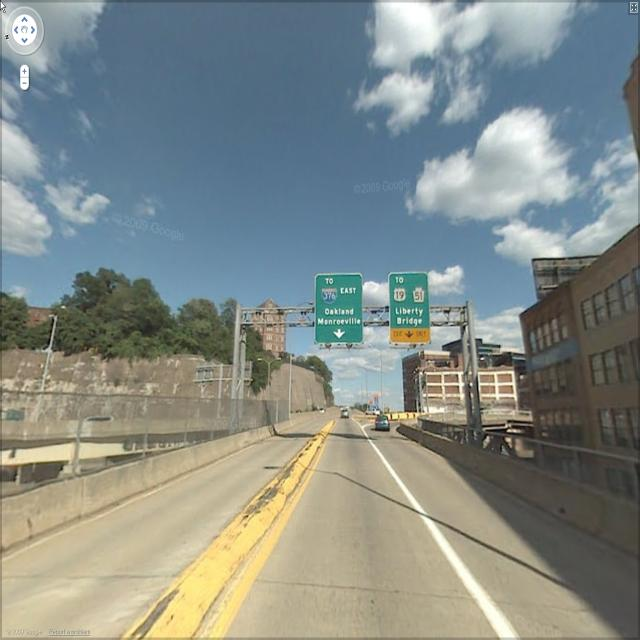b_1: (521, 292, 593, 476), (409, 346, 525, 416)
b_2: (402, 336, 532, 442), (245, 295, 298, 377)
